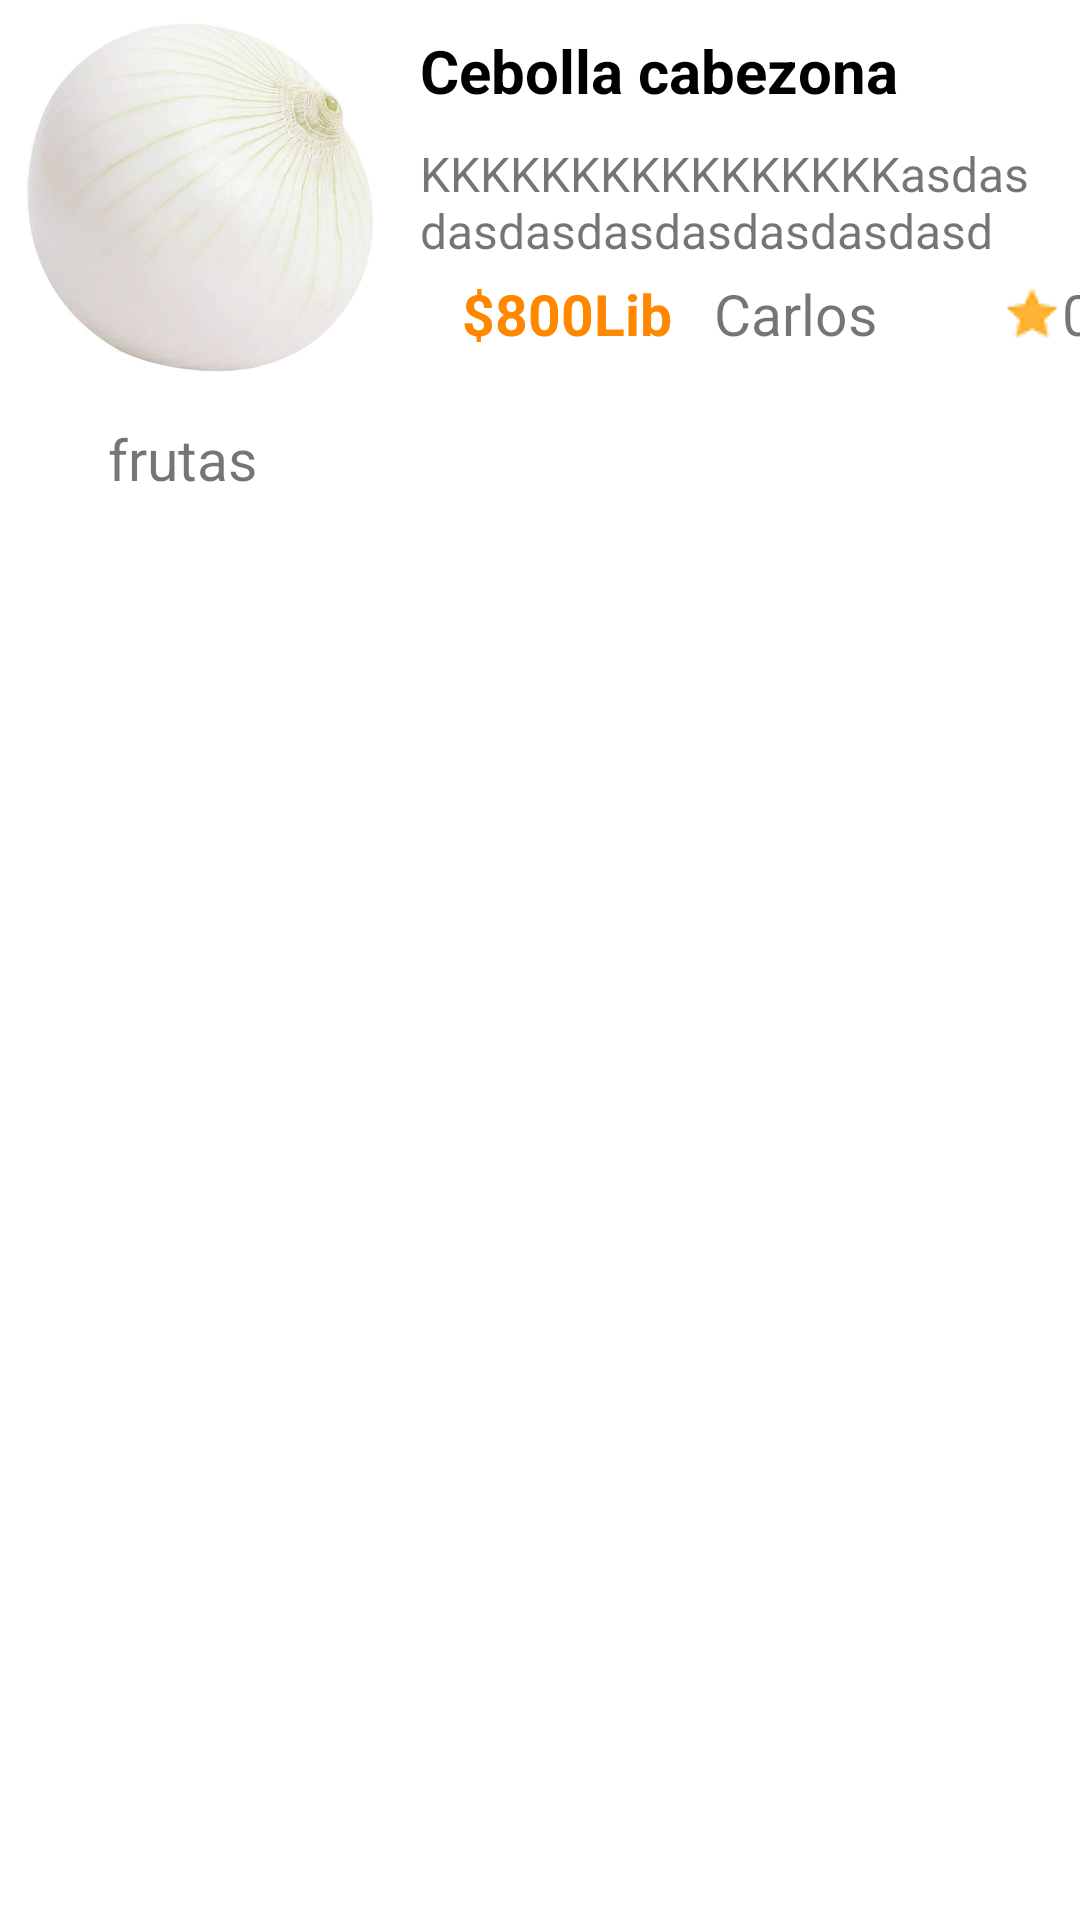

Screen size 1080px×1920px. Icon name, then its box in pixels as [x1,y1,x2,y2]:
cebollaproduc: [28,26,372,371]
